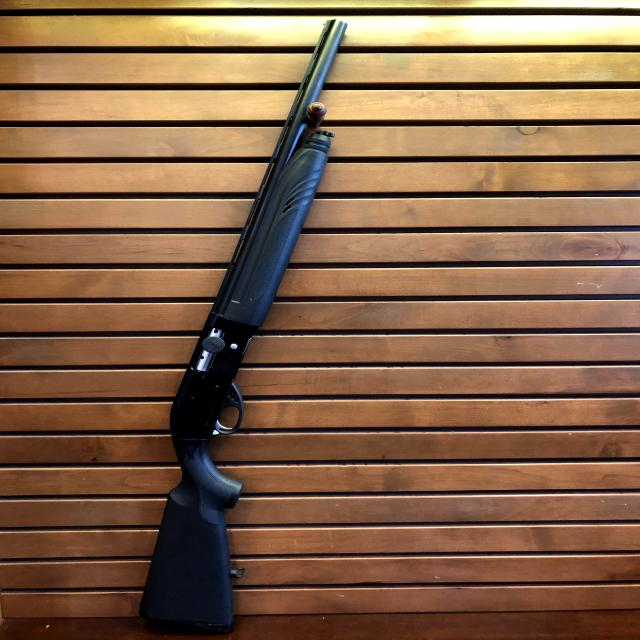shotgun: (126, 9, 361, 636)
